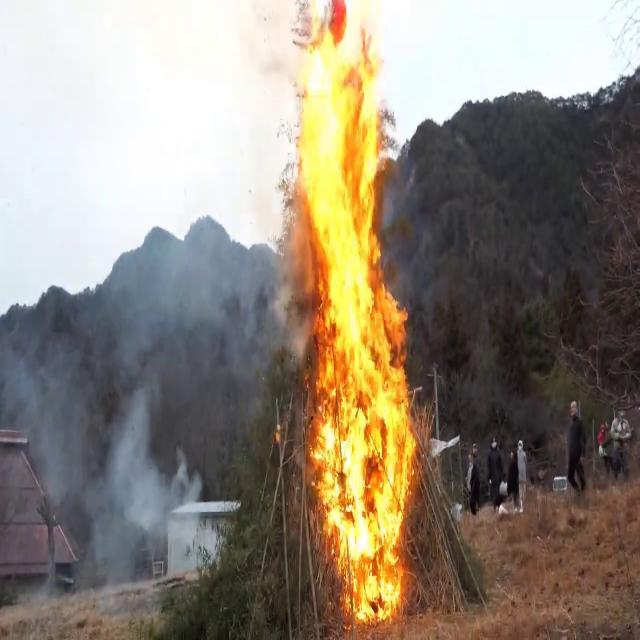Fire: (289, 0, 422, 621)
Smoke: (1, 298, 203, 580)
